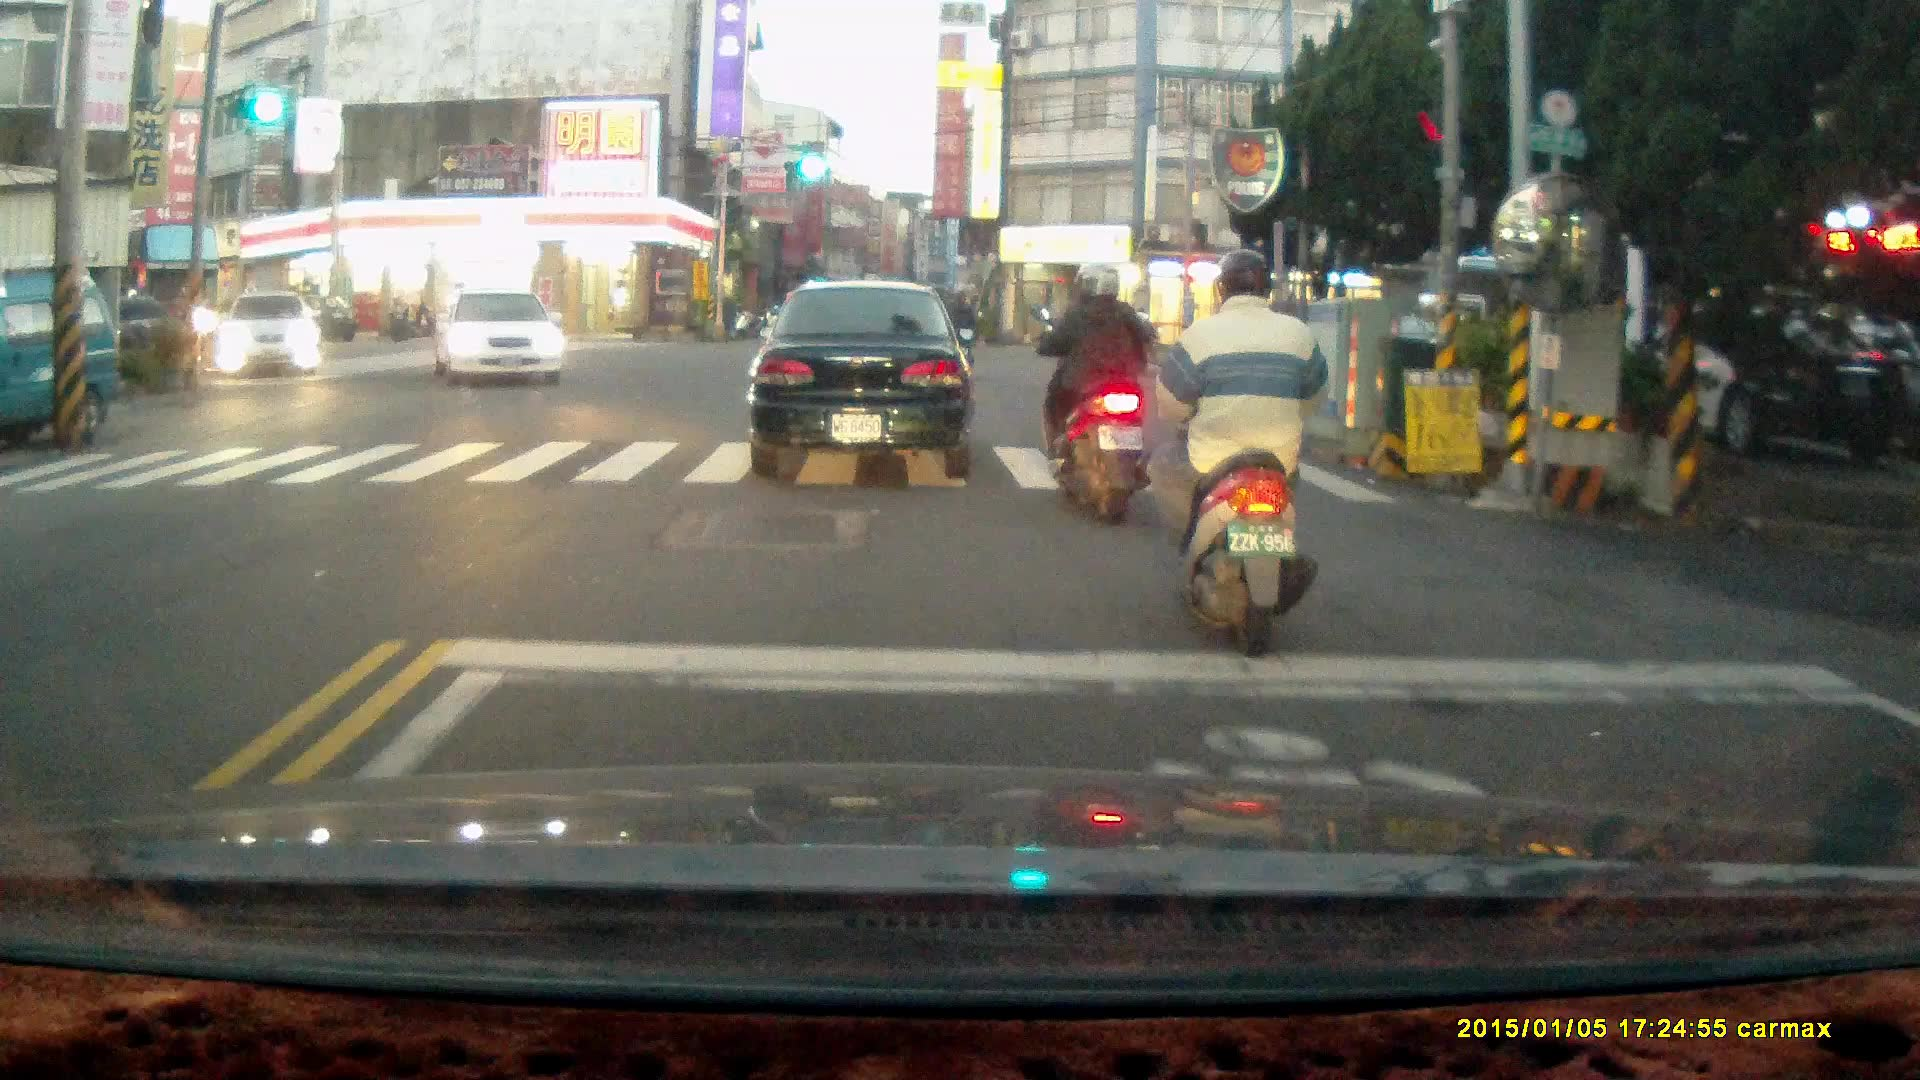rider: (1142, 236, 1332, 639), (1023, 260, 1159, 525), (941, 291, 982, 374)
vehicle: (1566, 282, 1907, 453), (748, 279, 976, 479), (1, 268, 127, 460), (432, 288, 568, 385), (217, 290, 324, 381)
